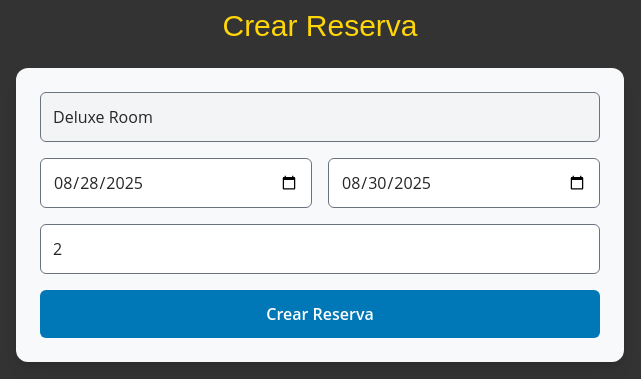
Test case: ReservationPage › 5. disables create button while processing reservation
Step 1. Click the button "Crear Reserva" → (320, 314), box x1=40 y1=290 x2=600 y2=338
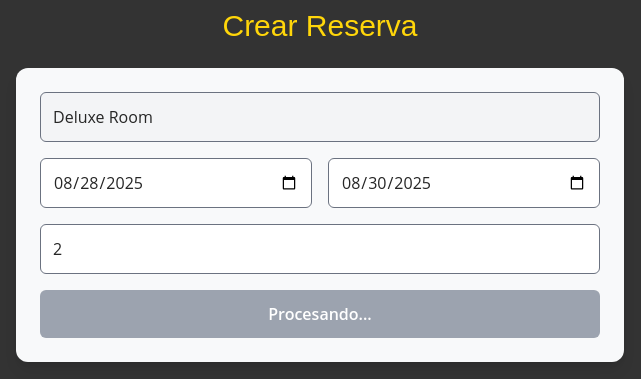
Expected: the button named "Crear Reserva" is disabled, x1=40 y1=290 x2=600 y2=338
